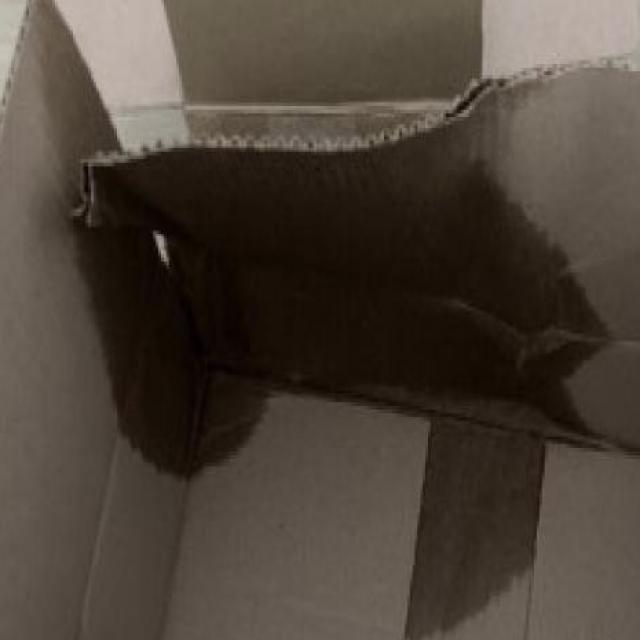wet: (68, 21, 598, 489)
